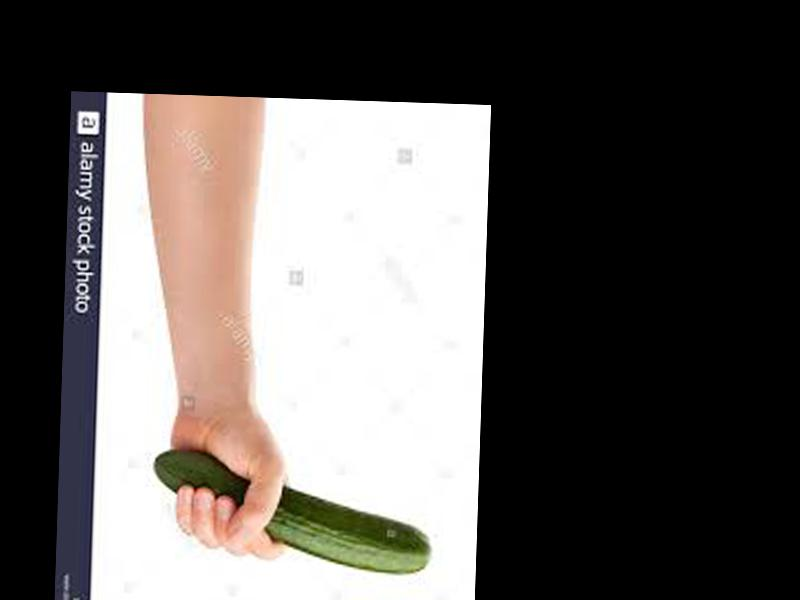Cucumber: (151, 451, 433, 576)
